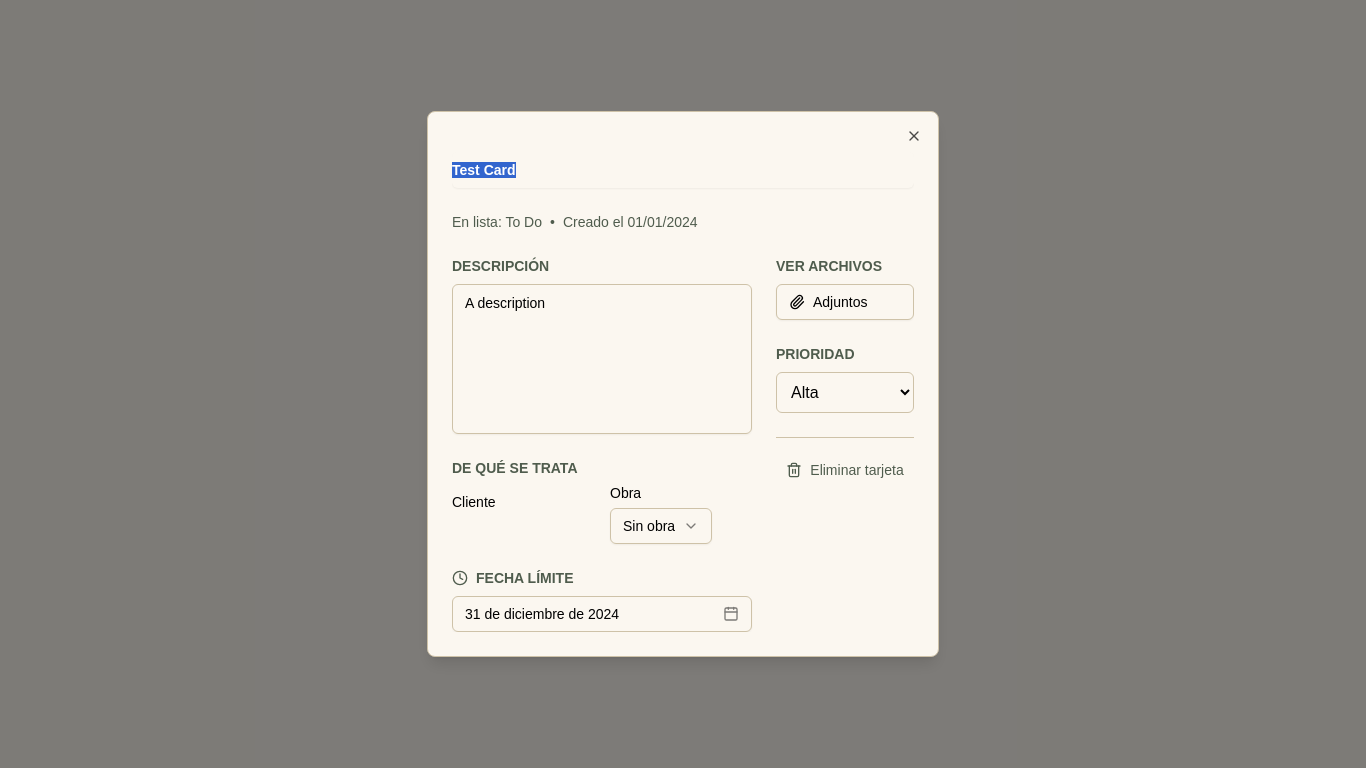
Test: CardDetailModal › shows attachment count in gallery header
What coordinates should you click on to do the following:
click the button "Adjuntos"
I would click on:
 (845, 302)
Its box is [776, 284, 914, 320].
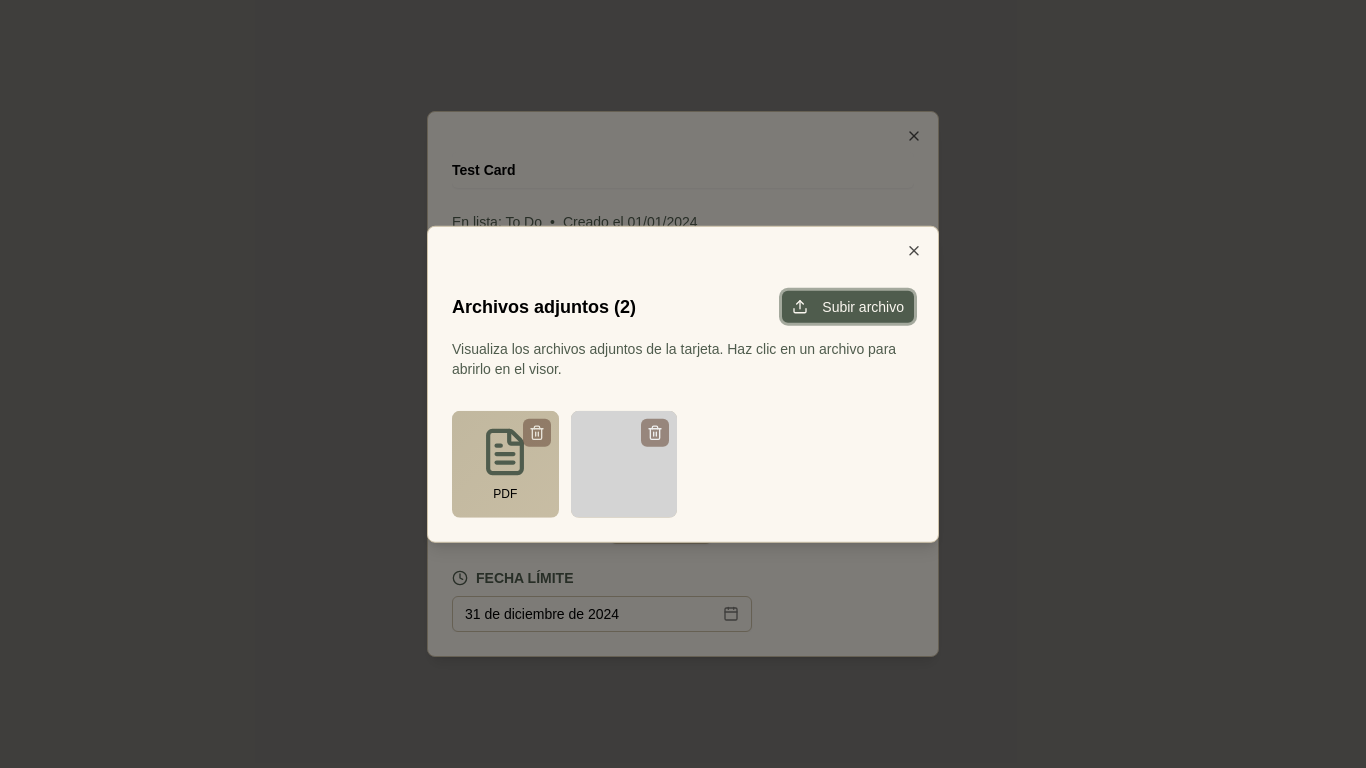
expect the heading "Archivos adjuntos (2)" is shown: met, box [452, 293, 636, 321]
